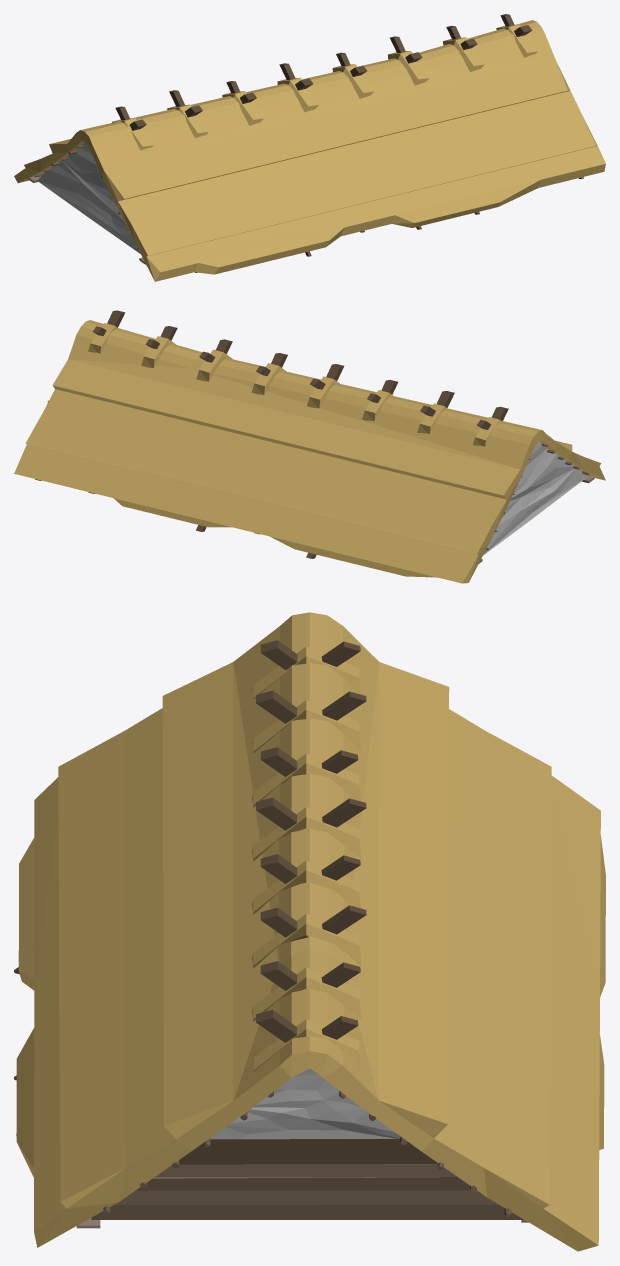
File: EA03_Village_Hut_Roof_01c.glb
3 renders of one model, top to bottom at view 1: azimuth 30°, elevation 25°; view 2: azimuth 150°, elevation 25°; view 3: azimuth 270°, elevation 25°, orthographic. The views are drawn at different scales.
Parts seen in each view (by area): view 1: EA03_Village_Hut_Roof_01c; view 2: EA03_Village_Hut_Roof_01c; view 3: EA03_Village_Hut_Roof_01c.
Part boxes in pixels (x1,y1,x2,y2): EA03_Village_Hut_Roof_01c: (14,14,605,281); EA03_Village_Hut_Roof_01c: (14,310,605,583); EA03_Village_Hut_Roof_01c: (14,612,605,1251).
Bounding box in the file's own units: 20.02 × 5.05 × 11.3.
Materials: 1 (1 with a texture image).
